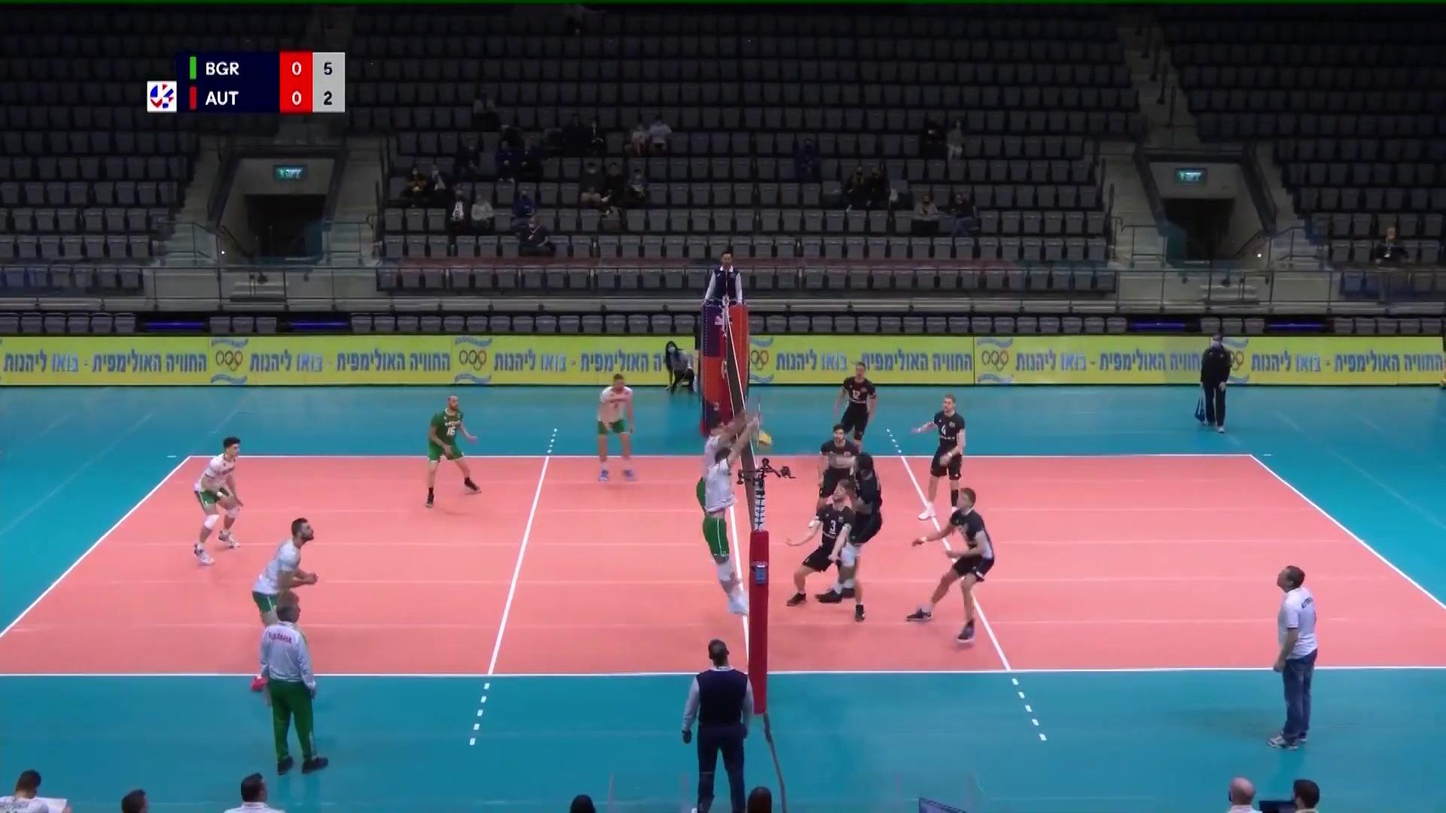ball: (755, 431, 775, 451)
